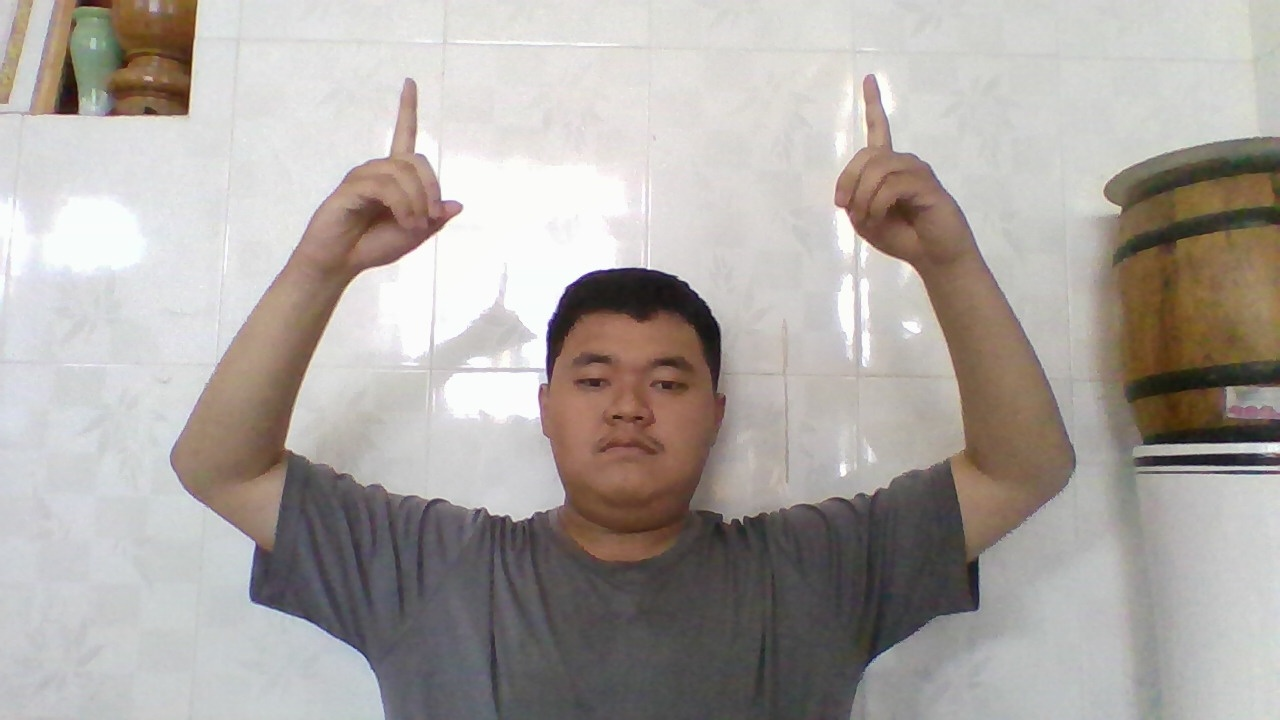D: (322, 68, 471, 282), (822, 63, 951, 276)
